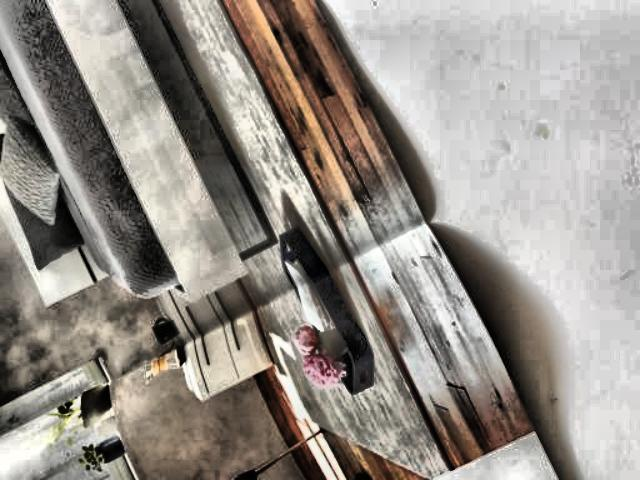Paper: (0, 0, 566, 480)
